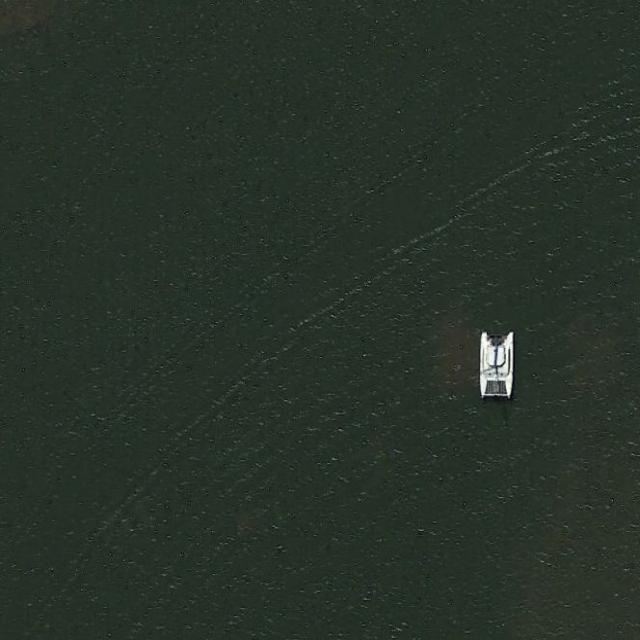ship: (472, 327, 516, 400)
